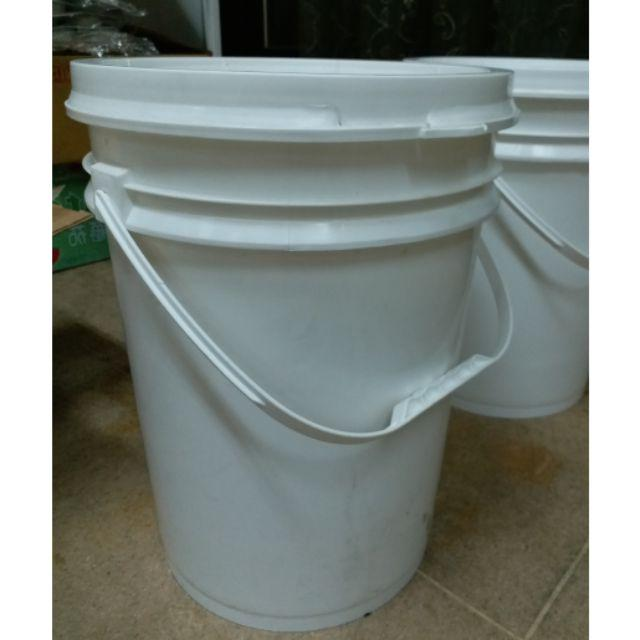plastic: (67, 49, 587, 631)
